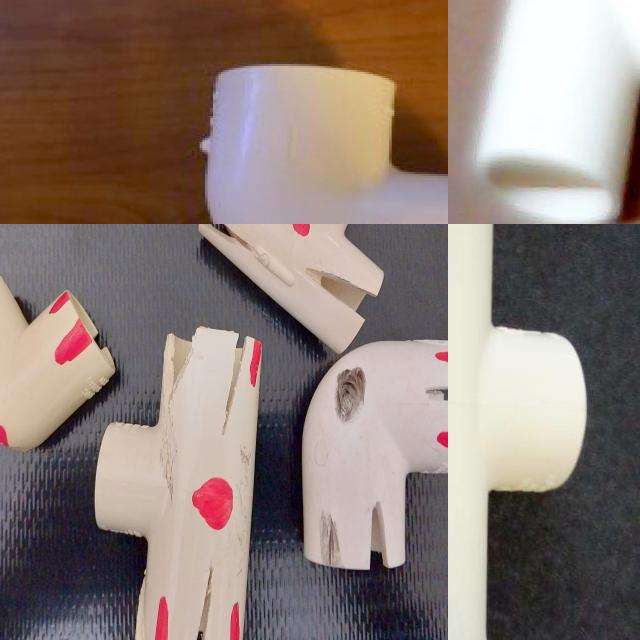Defective: (11, 454, 51, 510), (216, 475, 246, 548), (104, 414, 159, 452), (88, 494, 153, 522), (137, 274, 168, 320), (40, 411, 99, 430), (231, 584, 256, 616), (276, 500, 300, 532), (288, 611, 313, 640), (119, 531, 154, 550), (187, 613, 204, 640), (175, 263, 189, 288), (255, 625, 278, 640), (0, 633, 20, 640)
L Joint: (199, 64, 448, 224), (70, 224, 190, 356), (0, 600, 133, 640)
T Joint: (448, 224, 588, 640), (0, 324, 163, 550), (146, 461, 314, 640)
